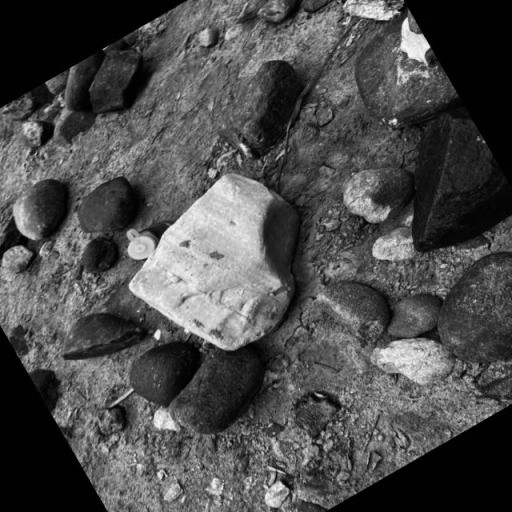bottle: (118, 208, 184, 266)
